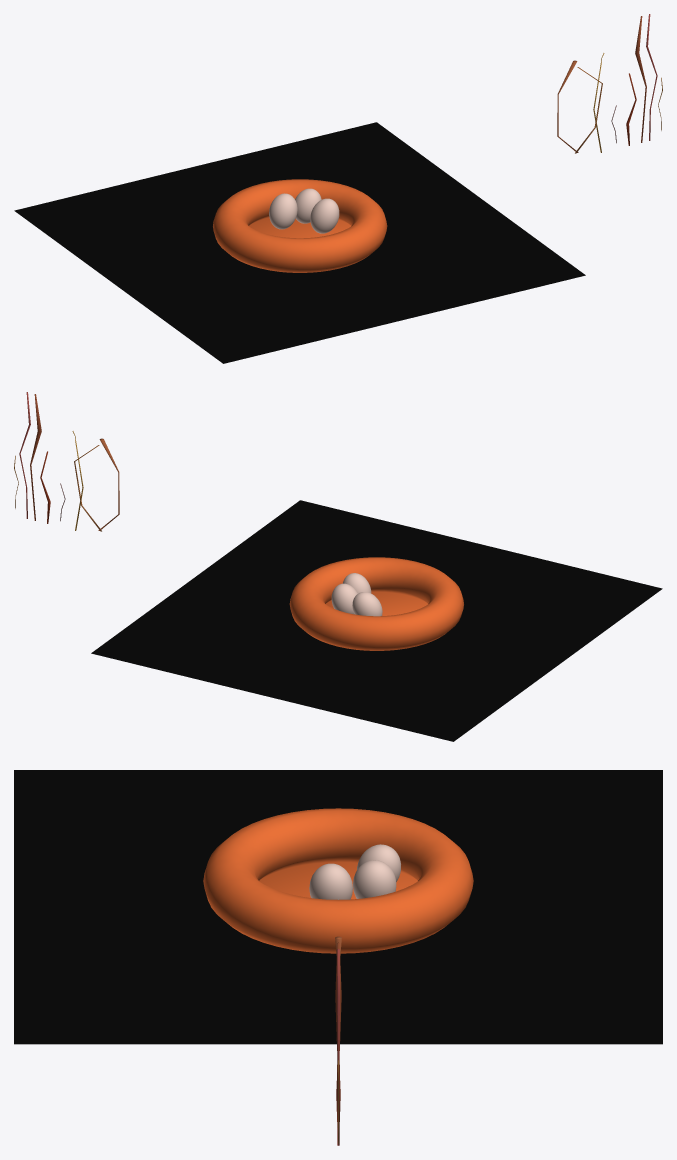
File: nest.dae
The picture shows the model from 3 angles, top to bottom: view 1: azimuth 30°, elevation 25°; view 2: azimuth 150°, elevation 25°; view 3: azimuth 270°, elevation 25°; orthographic projection. The views are drawn at different scales.
Parts seen in each view (by area): view 1: Plane, Torus, Sphere.001, Sphere.002, Sphere; view 2: Plane, Torus, Sphere.001, Sphere; view 3: Plane, Torus, Sphere, Sphere.002, Sphere.001.
Part boxes in pixels (x1,y1,x2,y2): Plane: (14, 122, 585, 363); Torus: (213, 179, 387, 272); Sphere.001: (269, 193, 297, 229); Sphere.002: (310, 198, 339, 233); Sphere: (295, 188, 321, 223); Plane: (91, 500, 662, 741); Torus: (289, 557, 463, 650); Sphere.001: (352, 592, 382, 616); Sphere: (331, 583, 357, 614); Plane: (14, 770, 662, 1044); Torus: (203, 808, 473, 953); Sphere: (353, 860, 396, 898); Sphere.002: (309, 863, 352, 899); Sphere.001: (357, 844, 400, 881).
Size of the model in its own units: 9 by 6 by 2.27.
